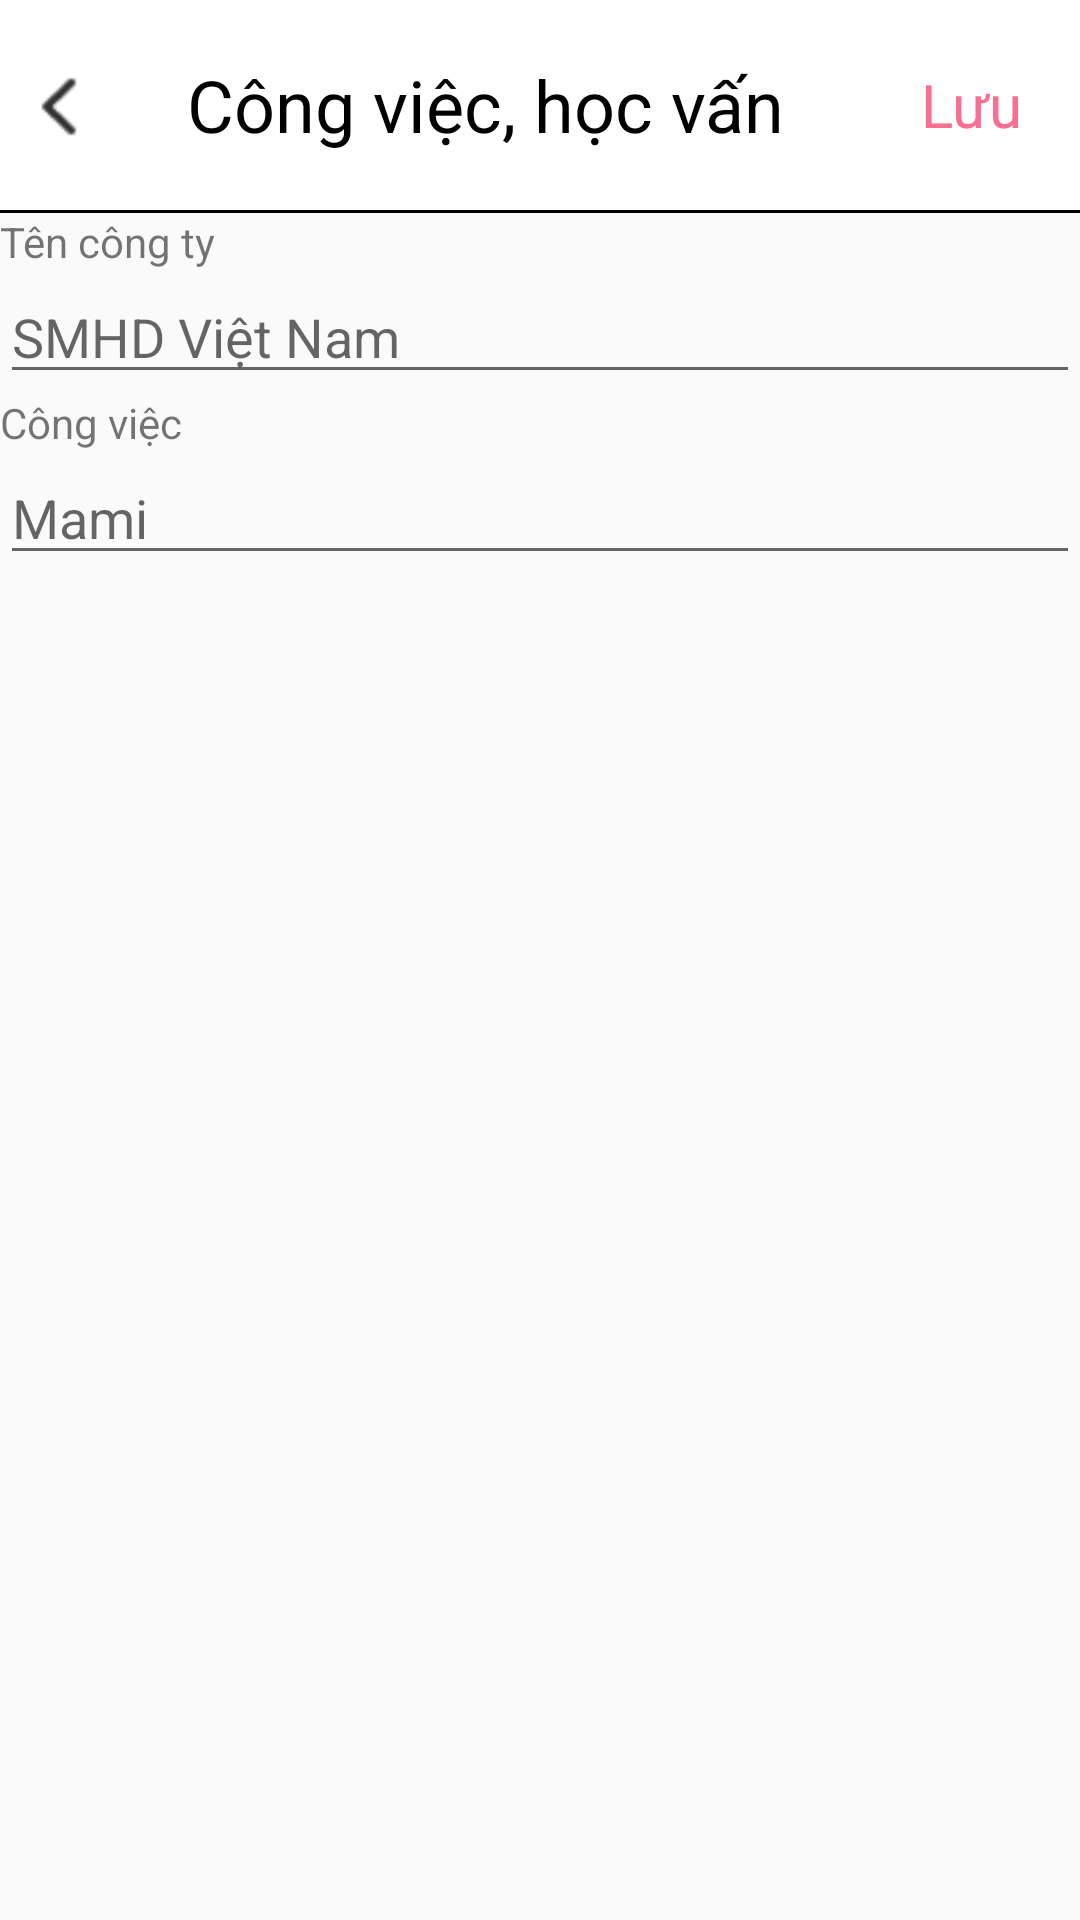

Icon bounding boxes for this 1080px x 1920px phone screenshot, format box(x1, y1, x2, y2):
quaylai: box(41, 78, 77, 136)
